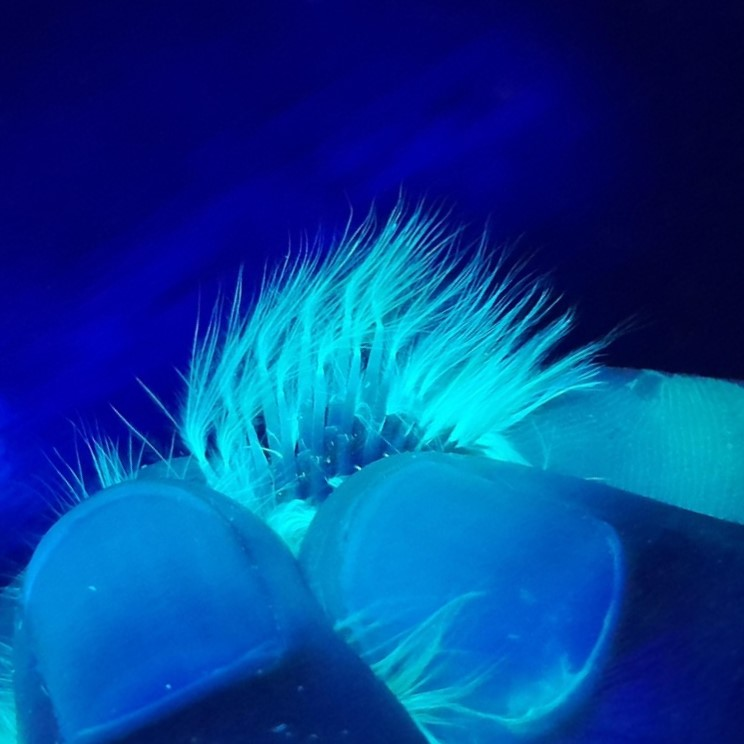female: (235, 280, 466, 527)
